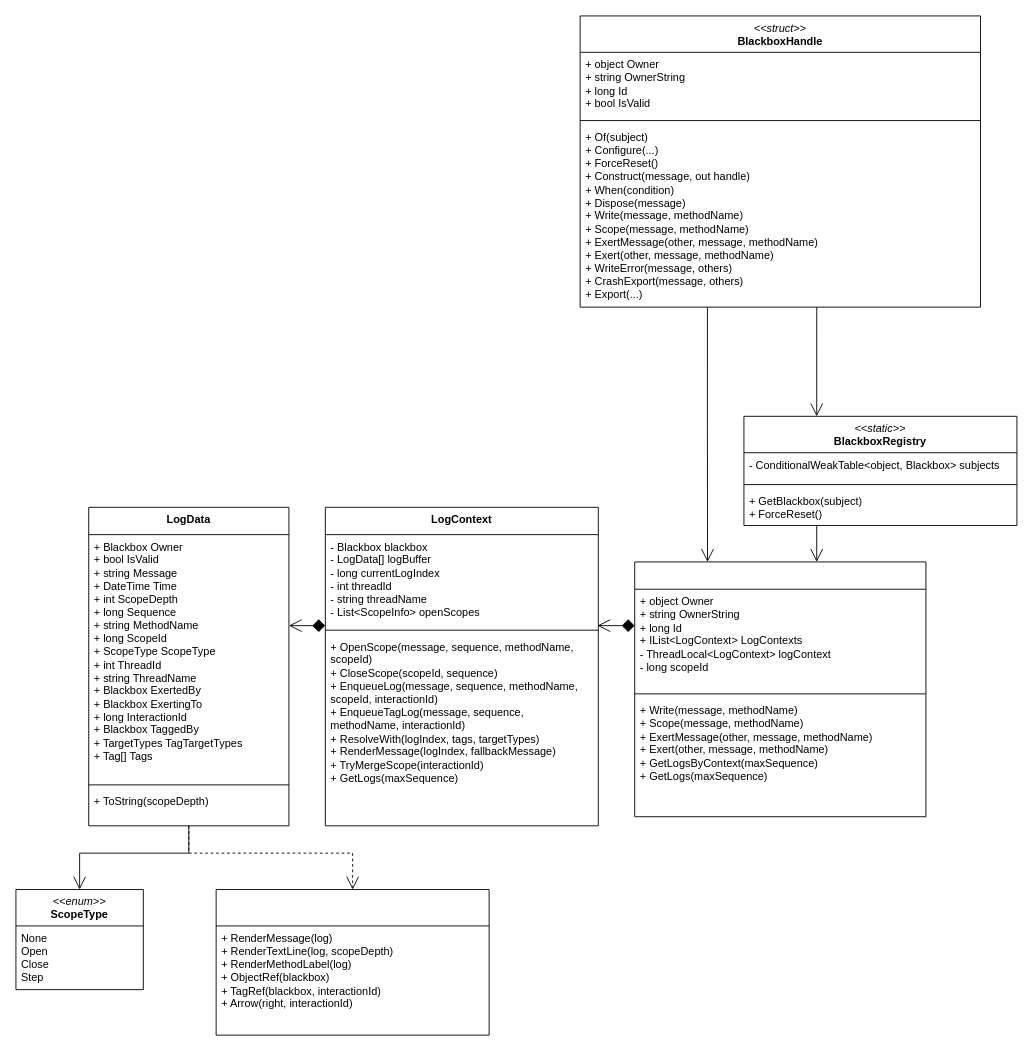
Some shapes in this 1033 by 1054 pixel diagram are drawn without their labels. Here are the shapes that lost their labels. From the top down, the box of each, then its label:
(634, 561, 926, 817): com.BlackThunder.BlackboxSystem
(215, 889, 489, 1035): <<static>> LogFormatter
